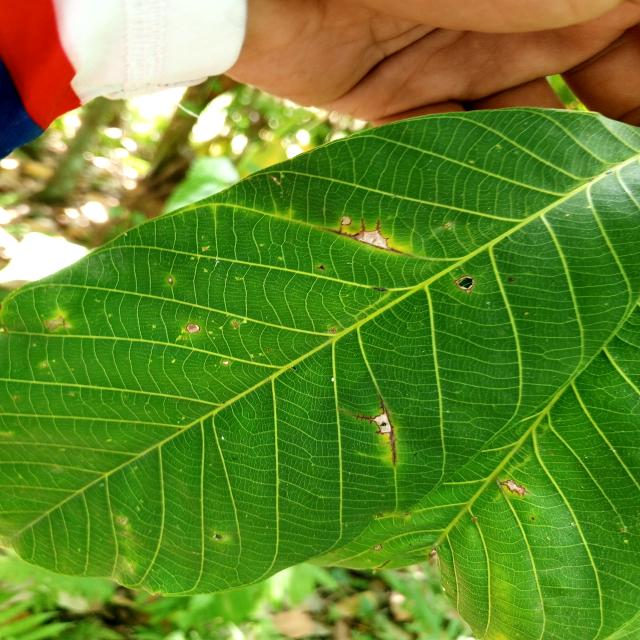Colletotrichum: (454, 275, 475, 290), (186, 322, 200, 334), (328, 328, 336, 334), (222, 360, 230, 366)
Corynespora: (338, 394, 398, 466), (318, 218, 411, 256), (500, 479, 530, 496), (341, 411, 375, 424), (378, 560, 391, 569)
Leaf-Blight: (356, 231, 387, 248), (376, 413, 391, 432)
